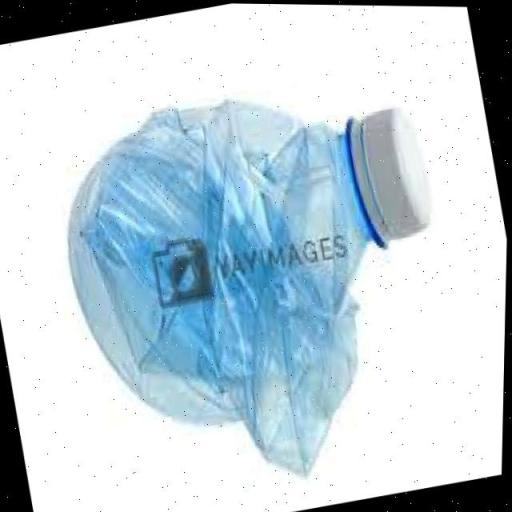plastic: (34, 51, 484, 512)
